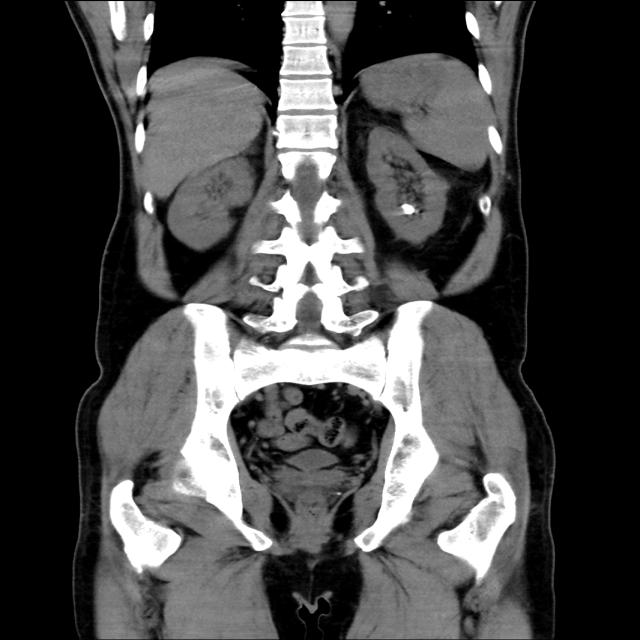kidneystone: (400, 204, 416, 215)
